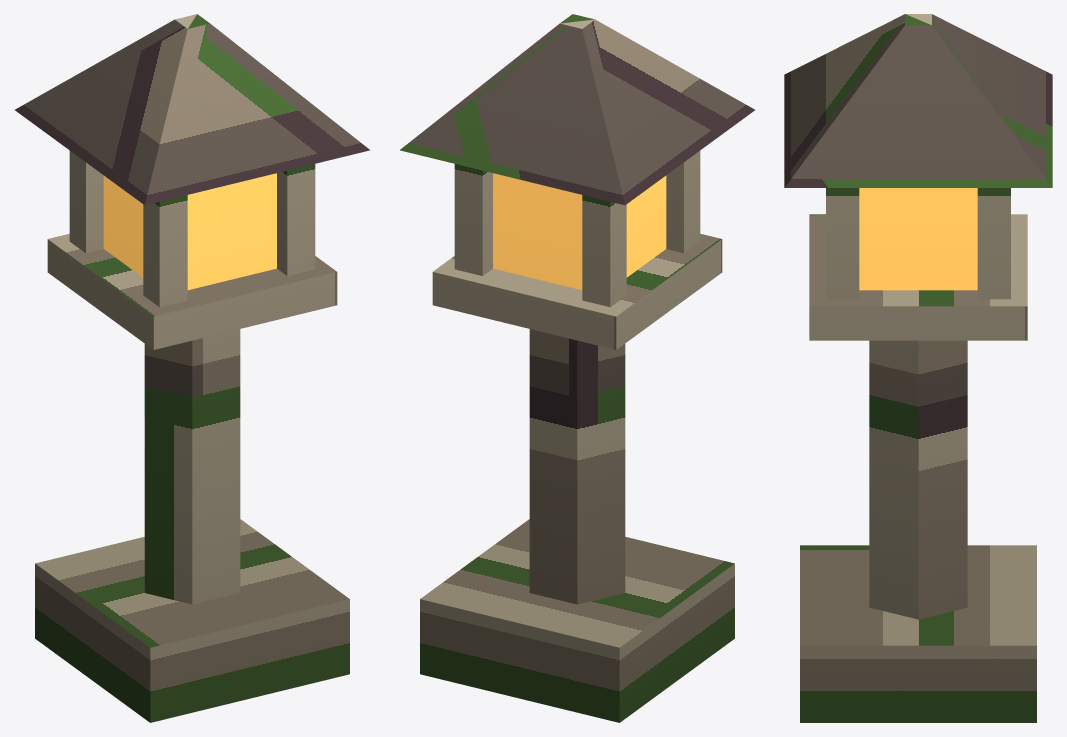
The model's file is stone_lantern.glb.
3 renders of one model, left to right at view 1: azimuth 30°, elevation 25°; view 2: azimuth 150°, elevation 25°; view 3: azimuth 270°, elevation 25°, orthographic. The views are drawn at different scales.
Visible parts, largest first — view 1: stone_lantern; view 2: stone_lantern; view 3: stone_lantern.
Part boxes in pixels (<box>): stone_lantern: <box>15,14,369,722</box>; stone_lantern: <box>400,14,754,722</box>; stone_lantern: <box>784,14,1052,722</box>.
Size of the model in its own units: 0.5657 by 1.52 by 0.5657.
3 materials, 1 textured.
